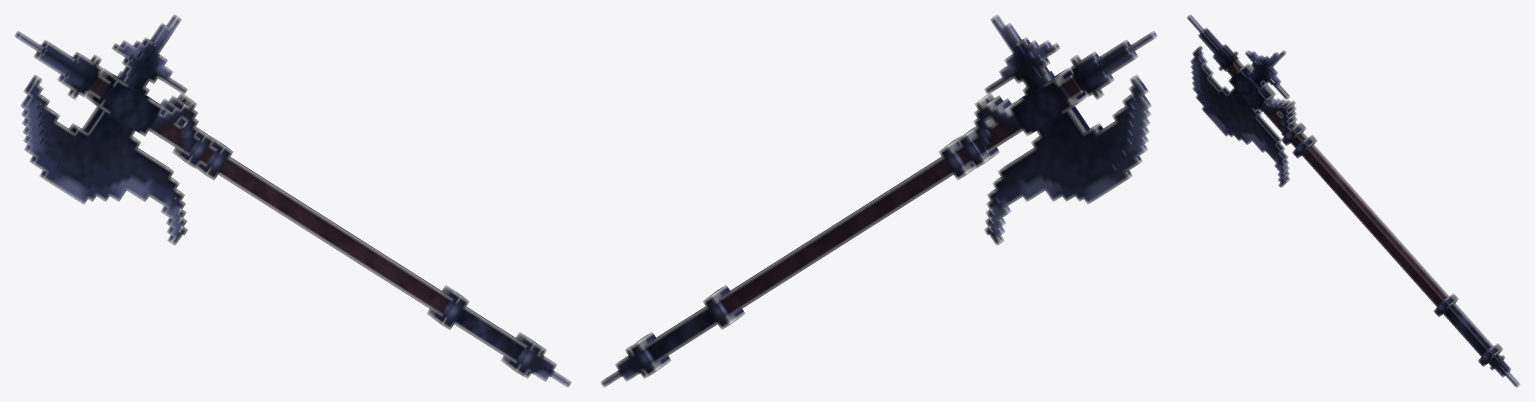
Rendered from thunderbrand.glb.
3 renders of one model, left to right at view 1: azimuth 30°, elevation 25°; view 2: azimuth 150°, elevation 25°; view 3: azimuth 330°, elevation 25°, orthographic. The views are drawn at different scales.
Parts seen in each view (by area): view 1: td2_37, td2_16, td2_39, td1_17, td1_14, td1_5, td1_36, td1_37, td1_8, td1_9, td1_32, td1_25 (+5 smaller); view 2: td2_37, td2_16, td2_39, td1_17, td1_14, td1_5, td1_36, td1_37, td1_8, td1_9, td1_32, td1_30 (+5 smaller); view 3: td2_37, td2_16, td2_39, td1_5, td1_14, td1_25, td1_17, td1_8.
Part boxes in pixels (x1,y1,x2,y2): td2_37: [218, 157, 453, 316]; td2_16: [84, 68, 163, 136]; td2_39: [454, 306, 527, 362]; td1_17: [82, 106, 135, 153]; td1_14: [69, 123, 184, 200]; td1_5: [37, 112, 148, 185]; td1_36: [426, 285, 469, 329]; td1_37: [500, 332, 543, 376]; td1_8: [38, 121, 130, 182]; td1_9: [39, 129, 122, 185]; td1_32: [196, 135, 233, 180]; td1_25: [130, 148, 174, 182]; td2_37: [718, 157, 953, 316]; td2_16: [1008, 68, 1087, 136]; td2_39: [644, 306, 717, 362]; td1_17: [1036, 106, 1089, 153]; td1_14: [987, 123, 1102, 200]; td1_5: [1023, 112, 1134, 185]; td1_36: [702, 285, 745, 329]; td1_37: [628, 332, 671, 376]; td1_8: [1041, 121, 1133, 182]; td1_9: [1049, 129, 1132, 185]; td1_32: [938, 135, 977, 180]; td1_30: [957, 126, 999, 168]; td2_37: [1302, 144, 1448, 306]; td2_16: [1228, 63, 1275, 111]; td2_39: [1443, 303, 1493, 356]; td1_5: [1197, 67, 1263, 142]; td1_14: [1219, 86, 1288, 161]; td1_25: [1252, 115, 1281, 147]; td1_17: [1227, 88, 1253, 116]; td1_8: [1198, 74, 1252, 135].
Bounding box in the file's own units: 0.7172 × 0.6036 × 0.0328.
1 material, 1 textured.
